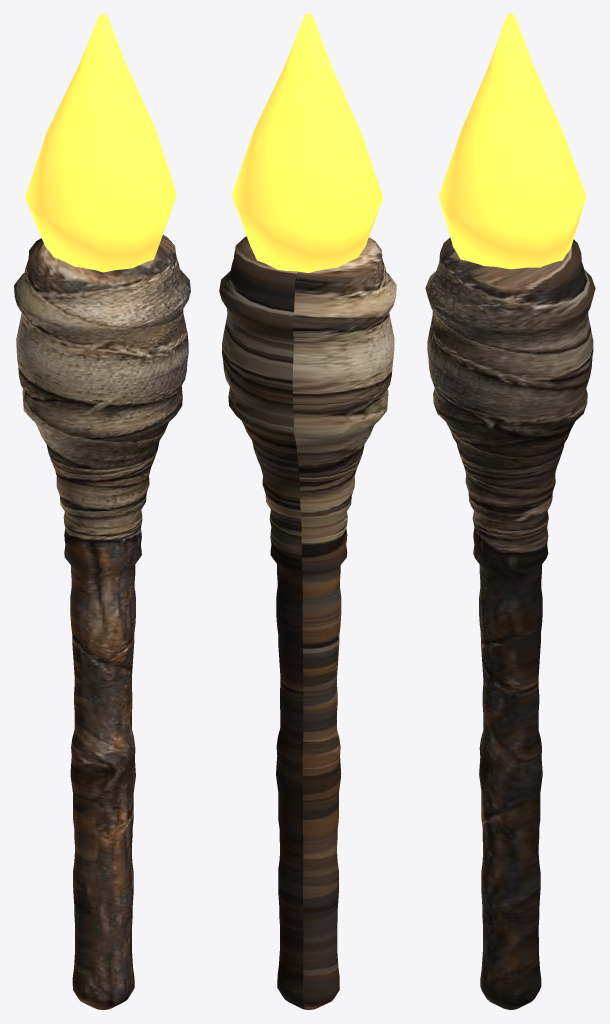
The model's file is torch.glb.
3 renders of one model, left to right at view 1: azimuth 30°, elevation 25°; view 2: azimuth 150°, elevation 25°; view 3: azimuth 270°, elevation 25°, orthographic.
Parts seen in each view (by area): view 1: torch, flame; view 2: torch, flame; view 3: torch, flame.
Boxes of the visible parts, left/top/right/bottom form: torch: left=14, top=235, right=190, bottom=1009; flame: left=25, top=14, right=176, bottom=272; torch: left=219, top=236, right=396, bottom=1009; flame: left=232, top=14, right=383, bottom=272; torch: left=425, top=237, right=595, bottom=1009; flame: left=438, top=14, right=585, bottom=269.
Bounding box in the file's own units: 0.1263 × 0.7674 × 0.1196.
Materials: 2 (1 with a texture image).
